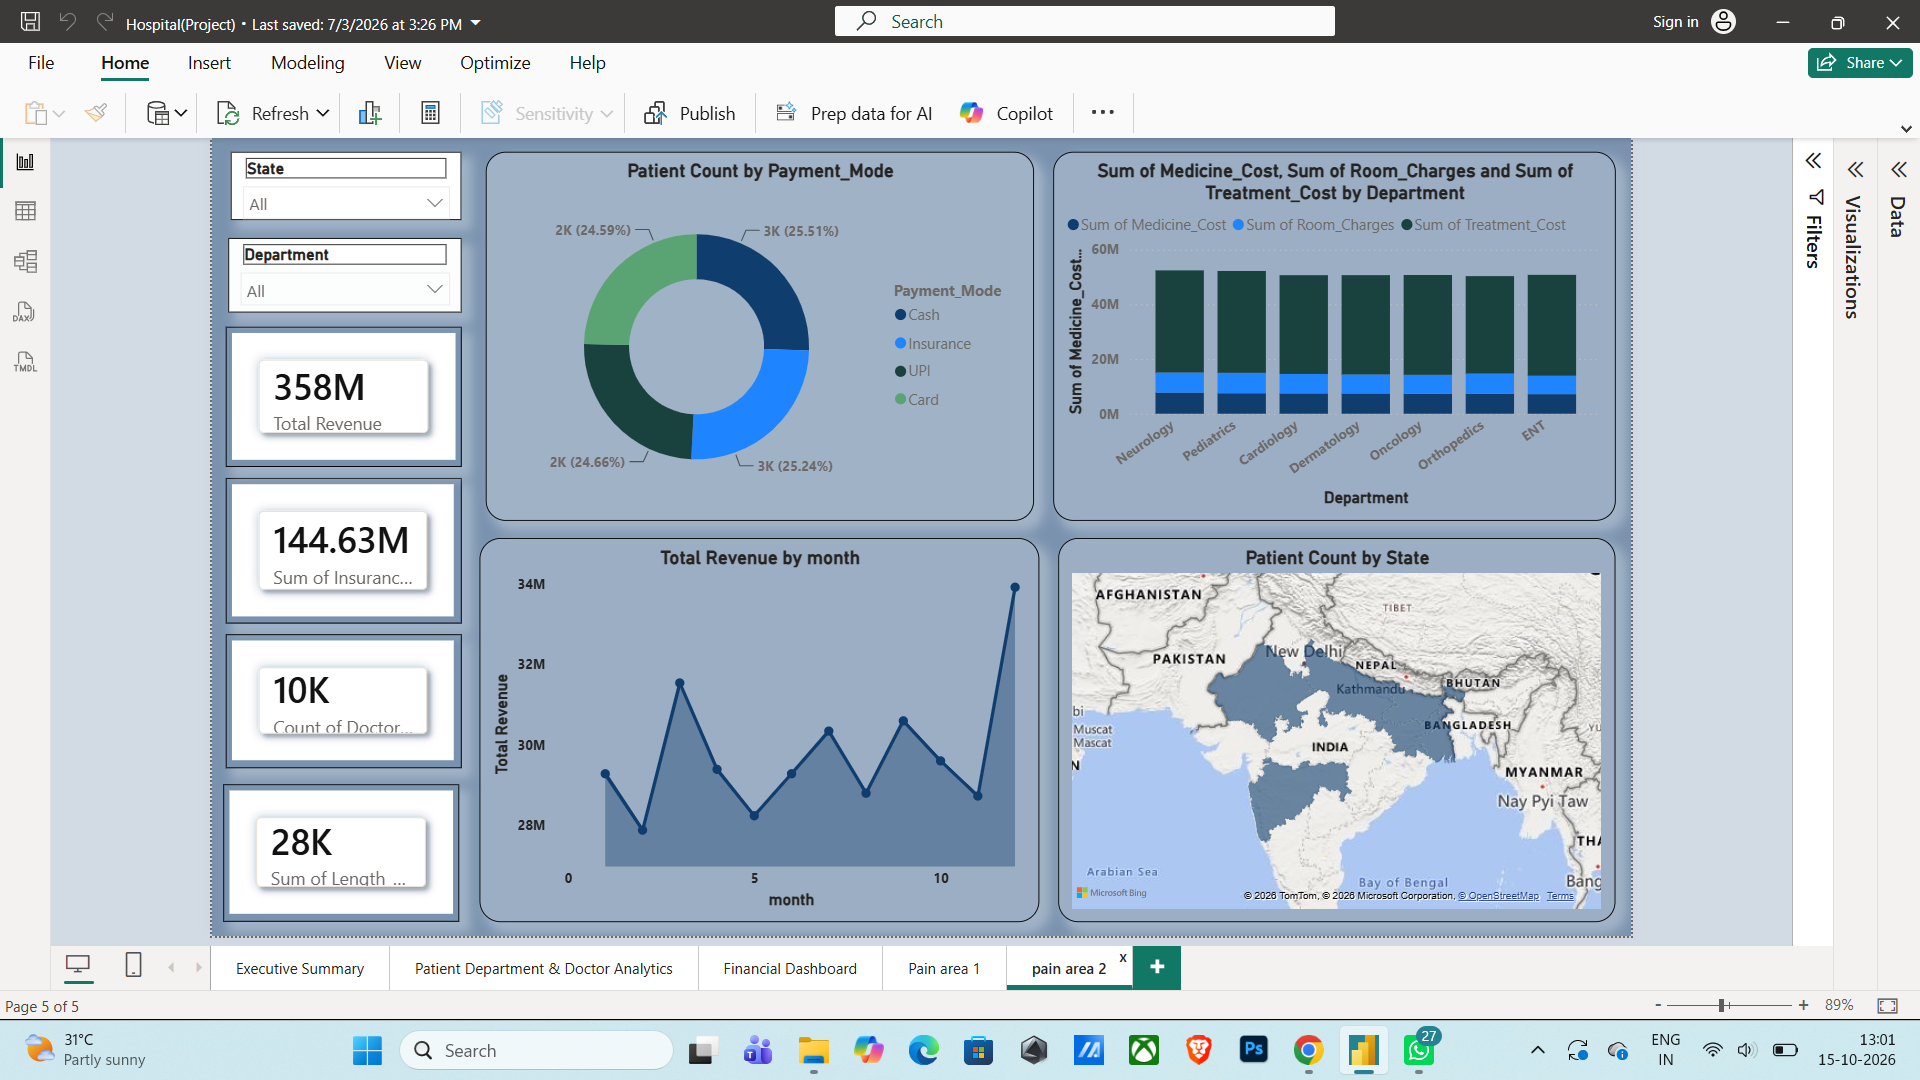

The dashboard page shown, as its layout file describes it:
{"tool":"powerbi","page":{"name":"pain area 2","canvas":[1280,720],"ordinal":4},"visuals":[{"type":"cardVisual","fields":{"Data":["Sum(Hospital_Data.Length_of_Stay)"]},"box":[10.1,582.7,213,124],"z":0},{"type":"cardVisual","fields":{"Data":["Sum(Hospital_Data.Insurance_Claim)"]},"box":[12.8,307,212.8,131.4],"z":1000},{"type":"cardVisual","fields":{"Data":["CountNonNull(Hospital_Data.Doctor_Name)"]},"box":[12.8,447.7,212.8,120.9],"z":2000},{"type":"cardVisual","fields":{"Data":["Hospital_Data.Total Revenue"]},"box":[12.4,170.2,213,126.2],"z":3000},{"type":"donutChart","fields":{"Category":["Hospital_Data.Payment_Mode"],"Y":["Hospital_Data.Patient Count"]},"box":[246.5,12.8,494.2,332.6],"z":4000},{"type":"lineStackedColumnComboChart","fields":{"Category":["Hospital_Data.Department"],"Y":["Sum(Hospital_Data.Medicine_Cost)","Sum(Hospital_Data.Room_Charges)","Sum(Hospital_Data.Treatment_Cost)"]},"box":[758.1,12.8,507,332.6],"z":5000},{"type":"filledMap","fields":{"Category":["Hospital_Data.State"]},"box":[762.8,360.5,502.3,346.5],"z":6000},{"type":"lineChart","fields":{"Category":["Hospital_Data.month"],"Y":["Hospital_Data.Total Revenue"]},"box":[241.2,360.7,504.9,346],"z":7000},{"type":"slicer","fields":{"Values":["Hospital_Data.State"]},"box":[17.4,12.8,208.1,61.6],"z":8000},{"type":"slicer","fields":{"Values":["Hospital_Data.Department"]},"box":[15.1,90.7,210.5,67.4],"z":9000}]}

Visuals, with their boxes on the page's 1280x720 design canvas (x1, y1, x2, y2). These are canvas units, not pixel positions in the 1920x1080 screenshot, which may show the page scaled, cropped or inside an application window:
cardVisual - Sum(Hospital_Data.Length_of_Stay): <bbox>10, 583, 223, 707</bbox>
cardVisual - Sum(Hospital_Data.Insurance_Claim): <bbox>13, 307, 226, 438</bbox>
cardVisual - CountNonNull(Hospital_Data.Doctor_Name): <bbox>13, 448, 226, 569</bbox>
cardVisual - Hospital_Data.Total Revenue: <bbox>12, 170, 225, 296</bbox>
donutChart - Hospital_Data.Payment_Mode x Hospital_Data.Patient Count: <bbox>246, 13, 741, 345</bbox>
lineStackedColumnComboChart - Hospital_Data.Department x Sum(Hospital_Data.Medicine_Cost): <bbox>758, 13, 1265, 345</bbox>
filledMap - Hospital_Data.State: <bbox>763, 360, 1265, 707</bbox>
lineChart - Hospital_Data.month x Hospital_Data.Total Revenue: <bbox>241, 361, 746, 707</bbox>
slicer - Hospital_Data.State: <bbox>17, 13, 226, 74</bbox>
slicer - Hospital_Data.Department: <bbox>15, 91, 226, 158</bbox>
